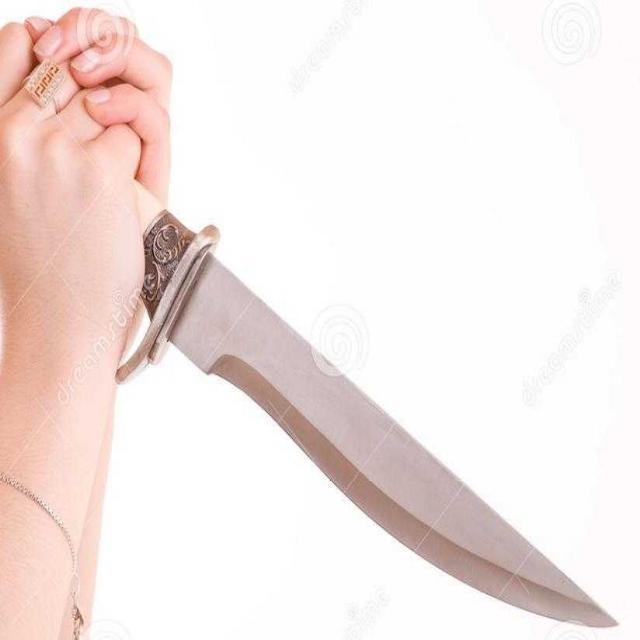knife: (12, 68, 622, 631)
